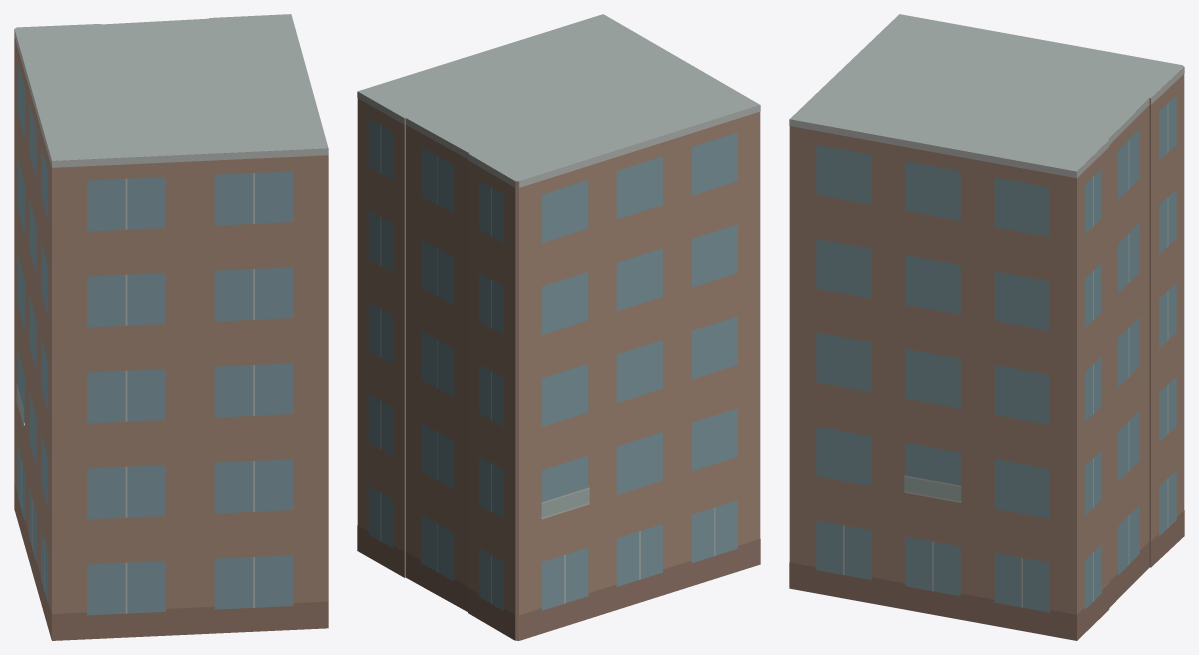
Rendered from survey-upis-33027551.glb.
The picture shows the model from 3 angles, left to right: view 1: azimuth 30°, elevation 25°; view 2: azimuth 150°, elevation 25°; view 3: azimuth 270°, elevation 25°; orthographic projection. The views are drawn at different scales.
Visible parts, largest first — view 1: survey-upis-33027551.tmp; view 2: survey-upis-33027551.tmp; view 3: survey-upis-33027551.tmp.
Part boxes in pixels (box(x1,y1,x2,y2)): survey-upis-33027551.tmp: box(14, 14, 328, 640); survey-upis-33027551.tmp: box(357, 14, 760, 640); survey-upis-33027551.tmp: box(789, 14, 1184, 640).
Bounding box in the file's own units: 12.25 × 17 × 12.97.
